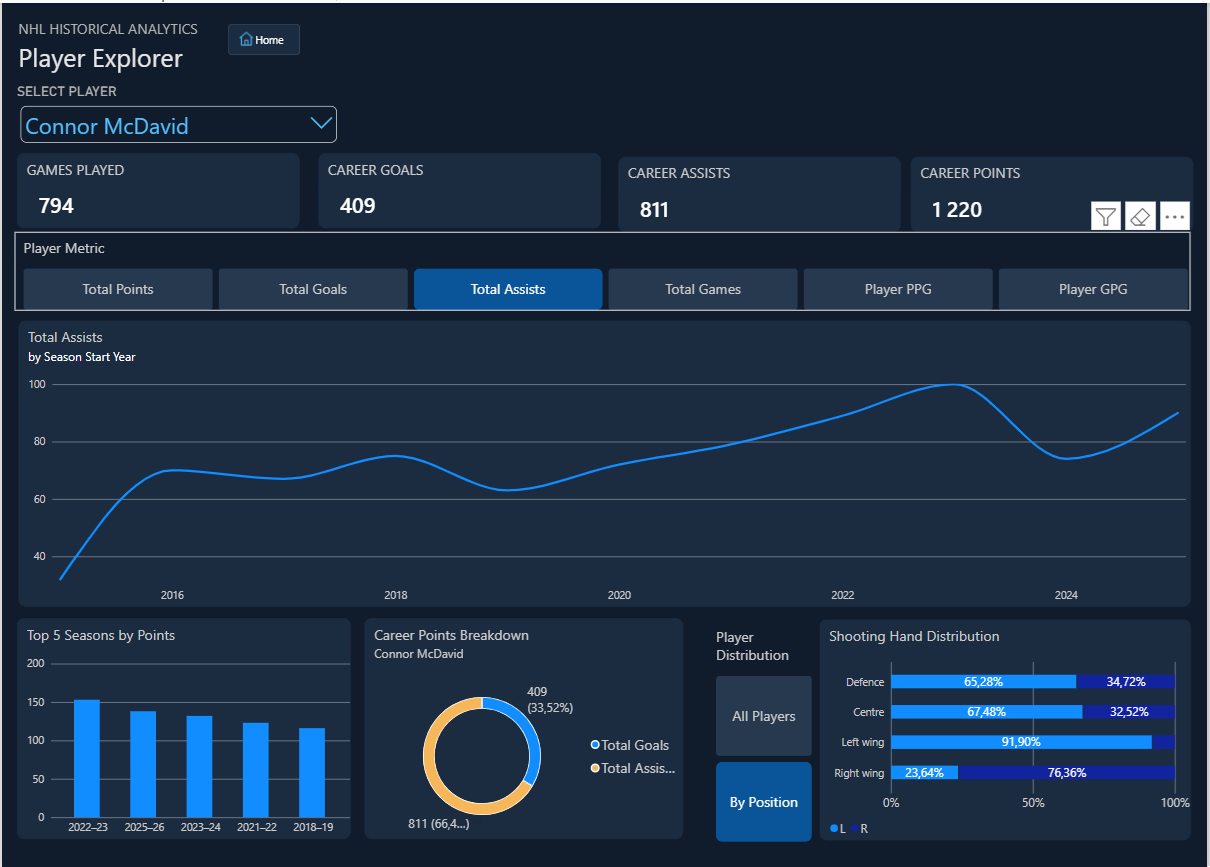

Layout of this report page (visuals, bound fields, positions):
{"tool":"powerbi","page":{"name":"Player Explorer","canvas":[1600,1150],"ordinal":2},"visuals":[{"type":"textbox","title":"NHL HISTORICAL ANALYTICS","box":[21.2,21.2,266.4,81.1],"z":0},{"type":"cardVisual","title":"GAMES PLAYED","fields":{"Data":["FactPlayerStats.Total Games"]},"box":[20,200,375,100],"z":1000},{"type":"cardVisual","title":"CAREER GOALS","fields":{"Data":["FactPlayerStats.Total Goals"]},"box":[420,200,375,100],"z":2000},{"type":"cardVisual","title":"CAREER ASSISTS","fields":{"Data":["FactPlayerStats.Total Assists"]},"box":[818,204,375,100],"z":3000},{"type":"textbox","title":"SELECT PLAYER","box":[20.5,106.1,158,24],"z":4000},{"type":"slicer","fields":{"Values":["DimPlayer.Player Display Name"]},"box":[20.5,130.1,430,70],"z":5000},{"type":"lineChart","fields":{"Category":["DimSeason.Season Start Year"],"Y":["FactPlayerStats.Total Assists"]},"box":[21.6,421.6,1557,380.1],"z":6000},{"type":"cardVisual","title":"CAREER POINTS","fields":{"Data":["FactPlayerStats.Total Points"]},"box":[1206.4,203.6,375,100],"z":7000},{"type":"clusteredColumnChart","title":"Top 5 Seasons by Points","fields":{"Category":["DimSeason.season"],"Y":["FactPlayerStats.Total Points"]},"box":[19.9,816.7,443.2,293.8],"z":8000},{"type":"donutChart","title":"Career Points Breakdown","fields":{"Y":["FactPlayerStats.Total Goals","FactPlayerStats.Total Assists"]},"box":[481.4,816.7,423.3,293.8],"z":9000},{"type":"advancedSlicerVisual","fields":{"Values":["Player Metric.Player Metric"]},"box":[16,304,1562,104],"z":10000},{"type":"hundredPercentStackedBarChart","title":"Shooting Hand Distribution","fields":{"Category":["FactPlayerStats.position"],"Series":["FactPlayerStats.shoots"],"Y":["Count(FactPlayerStats.player_id)"]},"box":[1085.6,818.3,493,293.8],"z":10001},{"type":"advancedSlicerVisual","fields":{"Values":["Player Distribution.Player Distribution"]},"box":[936.2,820,139.4,293.8],"z":10002},{"type":"actionButton","box":[299.9,28.2,95.3,40.6],"z":10003}]}

Visuals, with their boxes in screenshot pixels (x1, y1, x2, y2), scaled from the page's 1600x1150 canvas onto the 1210x867 screenshot:
"NHL HISTORICAL ANALYTICS" textbox: 16 16 217 77
"GAMES PLAYED" cardVisual: 15 151 299 226
"CAREER GOALS" cardVisual: 318 151 601 226
"CAREER ASSISTS" cardVisual: 619 154 902 229
"SELECT PLAYER" textbox: 16 80 135 98
slicer - DimPlayer.Player Display Name: 16 98 341 151
lineChart - DimSeason.Season Start Year x FactPlayerStats.Total Assists: 16 318 1194 604
"CAREER POINTS" cardVisual: 912 153 1196 229
"Top 5 Seasons by Points" clusteredColumnChart: 15 616 350 837
"Career Points Breakdown" donutChart: 364 616 684 837
advancedSlicerVisual - Player Metric.Player Metric: 12 229 1193 308
"Shooting Hand Distribution" hundredPercentStackedBarChart: 821 617 1194 838
advancedSlicerVisual - Player Distribution.Player Distribution: 708 618 813 840
actionButton: 227 21 299 52
